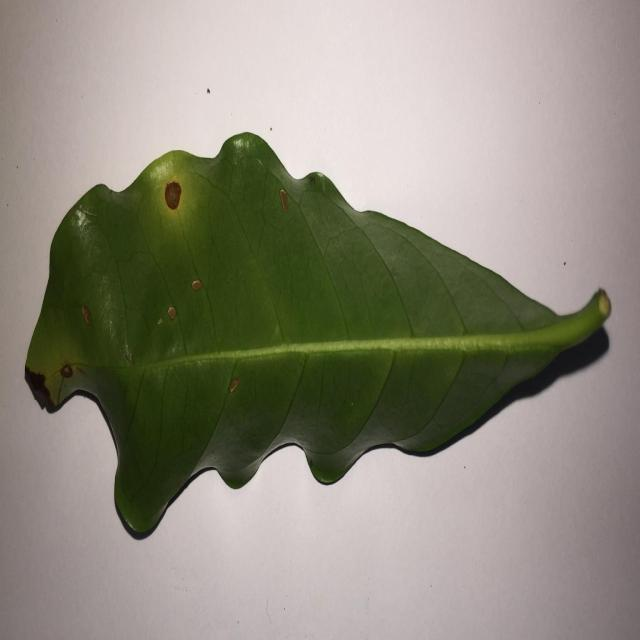Enfermedad-Mancha-de-hierro: (23, 132, 613, 543)
